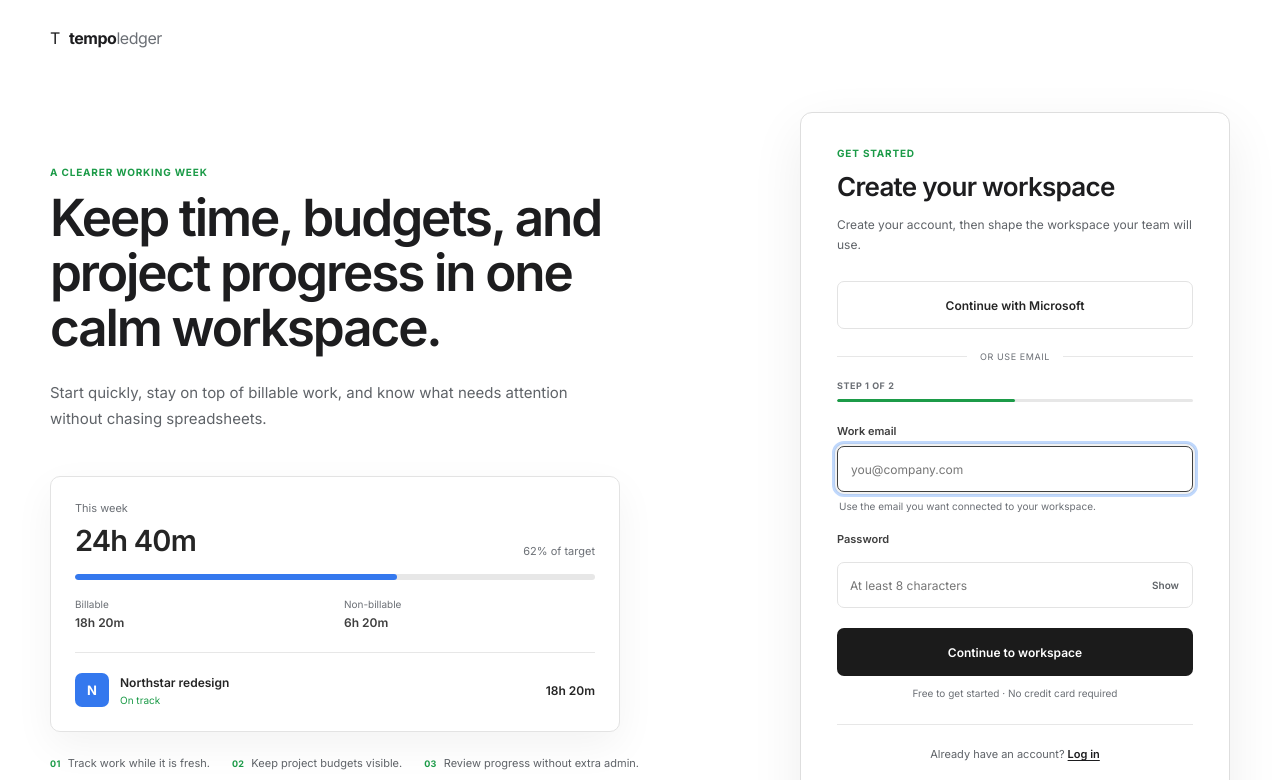
workspace signup onboarding › keeps workspace details available when registration fails
In the field labelled "Work email": coordinates (1015, 469) [837,446,1193,492], type "maia@example.com"
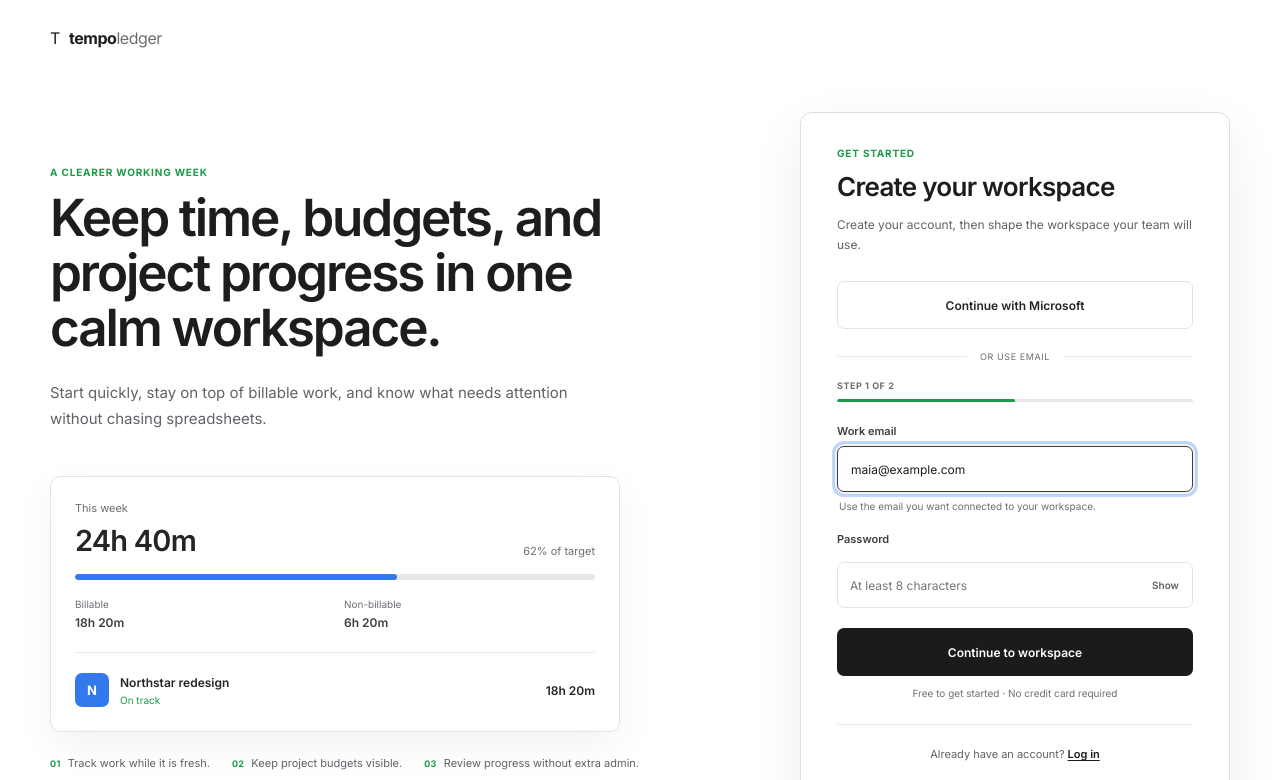
In the password field labelled "Password": coordinates (988, 585) [838,563,1139,607], type "correct-horse-battery"
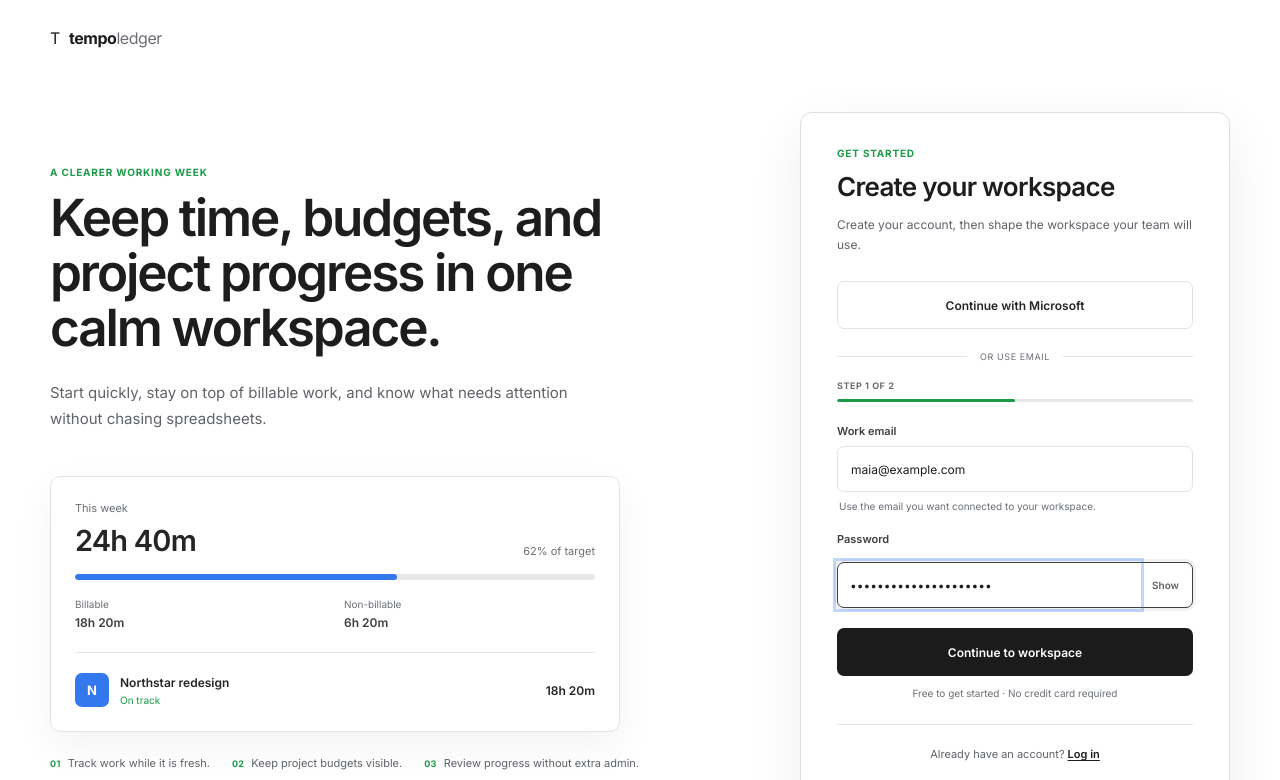
Click the button "Continue to workspace": coordinates (1015, 652) [837,628,1193,676]
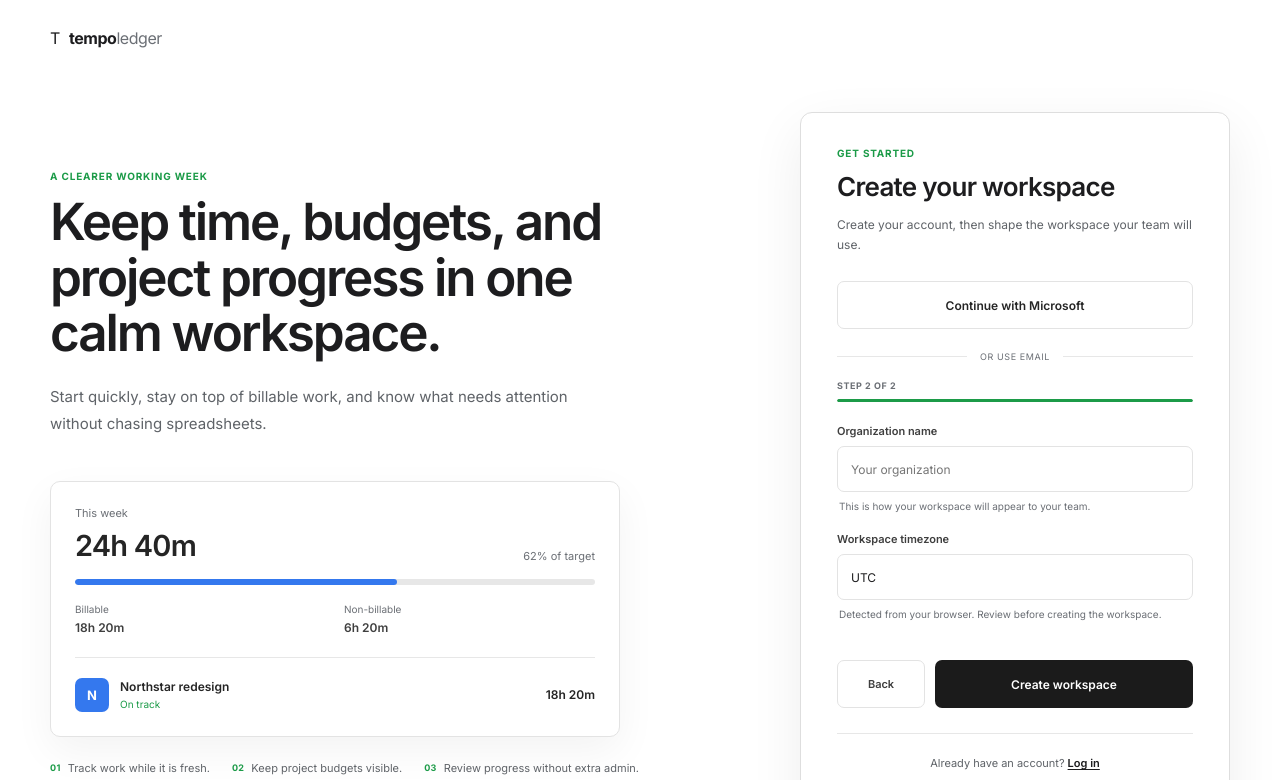
In the field labelled "Organization name": coordinates (1015, 469) [837,446,1193,492], type "Tempo Studio"
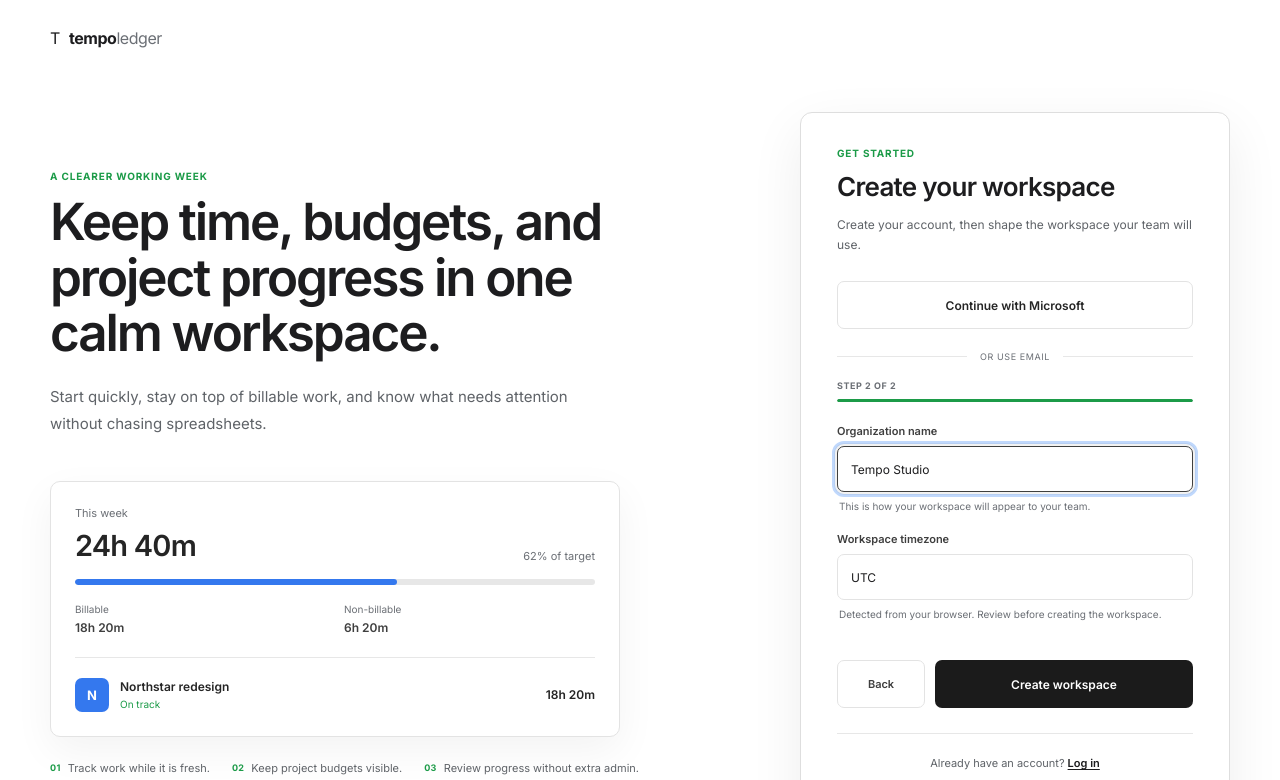
Click the button "Create workspace": coordinates (1064, 684) [935,660,1193,708]
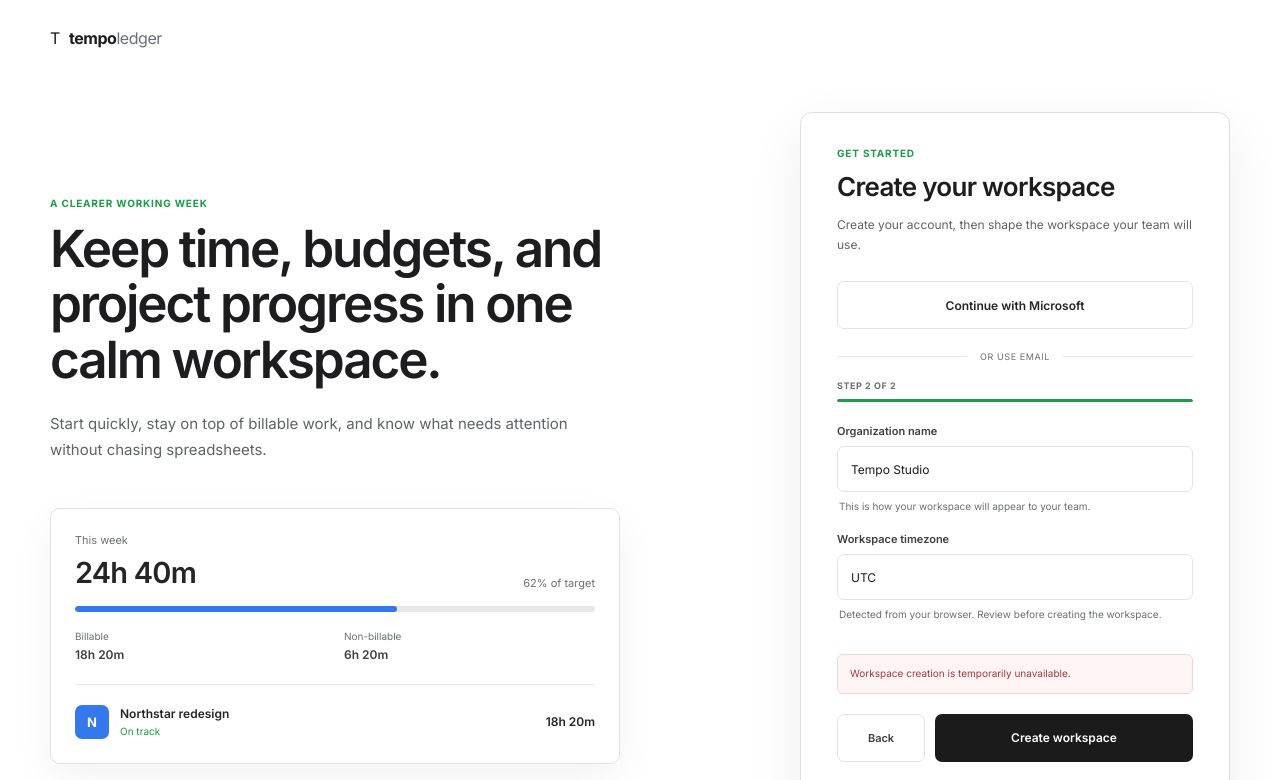
Expected: the button "Create workspace" is enabled, [935,714,1193,762]
Expected: the message reads "Workspace creation is temporarily unavailable.", [850,667,1071,679]
